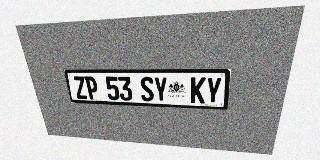3: (118, 77, 133, 101)
5: (105, 76, 120, 100)
K: (190, 77, 206, 103)
P: (84, 76, 99, 100)
S: (140, 77, 154, 102)
Y: (205, 77, 222, 104), (153, 77, 168, 102)
Z: (72, 76, 88, 99)
